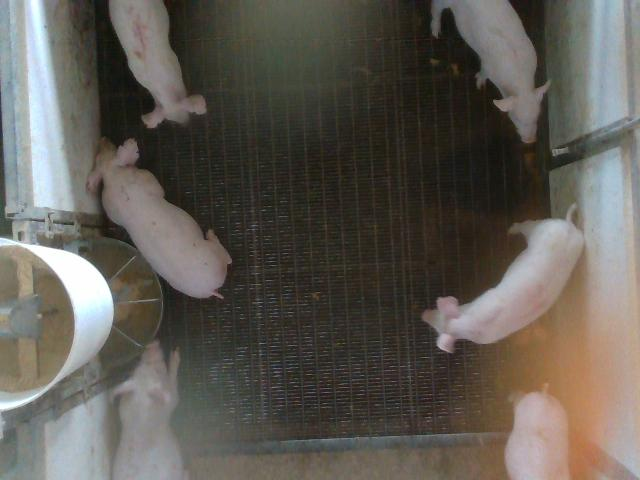pig-4: (422, 205, 584, 352)
pig-5: (110, 0, 206, 128)
